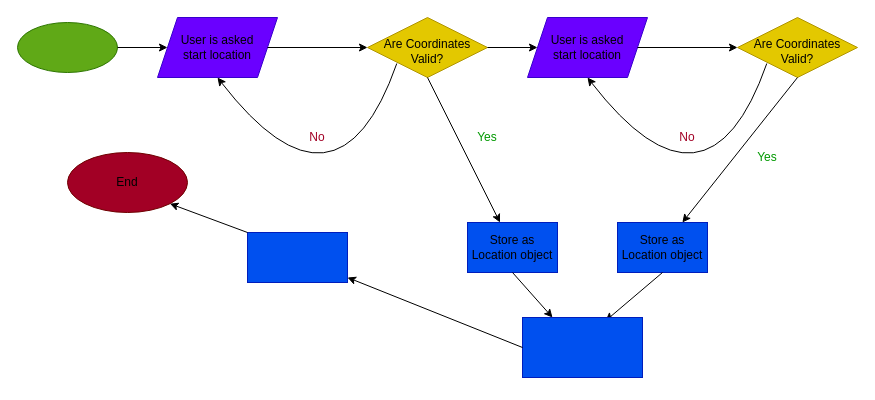
This 875x400 diagram has some shape labels left out. The box of each missing label's shape, as (x1, y1, x2, y2) in pixels:
Calculate Bearing Using 2 Locations: (522, 316, 642, 378)
Print Formatted Locations and Bearing: (246, 232, 348, 282)
User runs Main.java: (16, 22, 118, 72)
